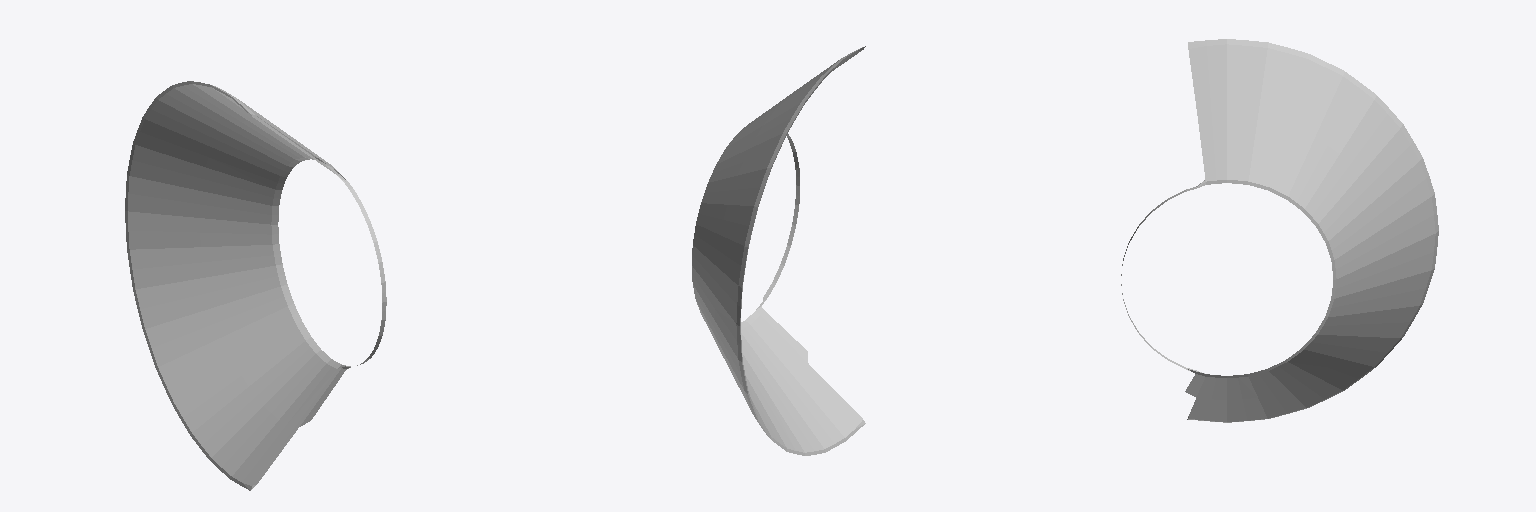
File: LHDDriveSide.obj
3 renders of one model, left to right at view 1: azimuth 30°, elevation 25°; view 2: azimuth 150°, elevation 25°; view 3: azimuth 270°, elevation 25°, orthographic.
Parts seen in each view (by area): view 1: LHDriveSide; view 2: LHDriveSide; view 3: LHDriveSide.
Part boxes in pixels (x1,y1,x2,y2): LHDriveSide: (125, 81, 386, 490); LHDriveSide: (692, 46, 865, 455); LHDriveSide: (1121, 39, 1438, 422).
Size of the model in its own units: 0.0185 by 0.0659 by 0.0495.